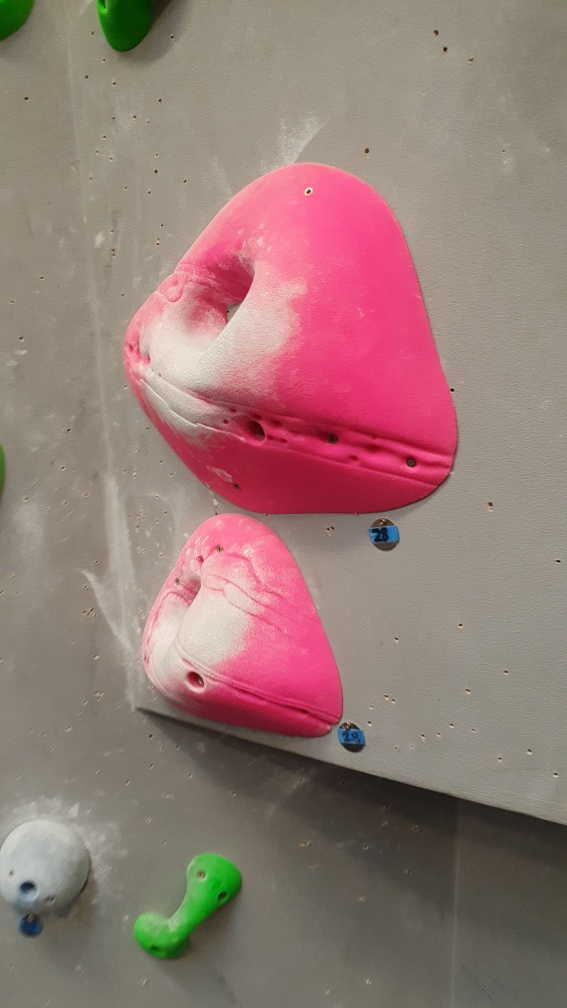Hand Start: (366, 519, 403, 555), (337, 719, 366, 755), (17, 912, 44, 942)
Pocket: (121, 161, 463, 518), (140, 513, 347, 743)
Sloper: (1, 818, 92, 918)
